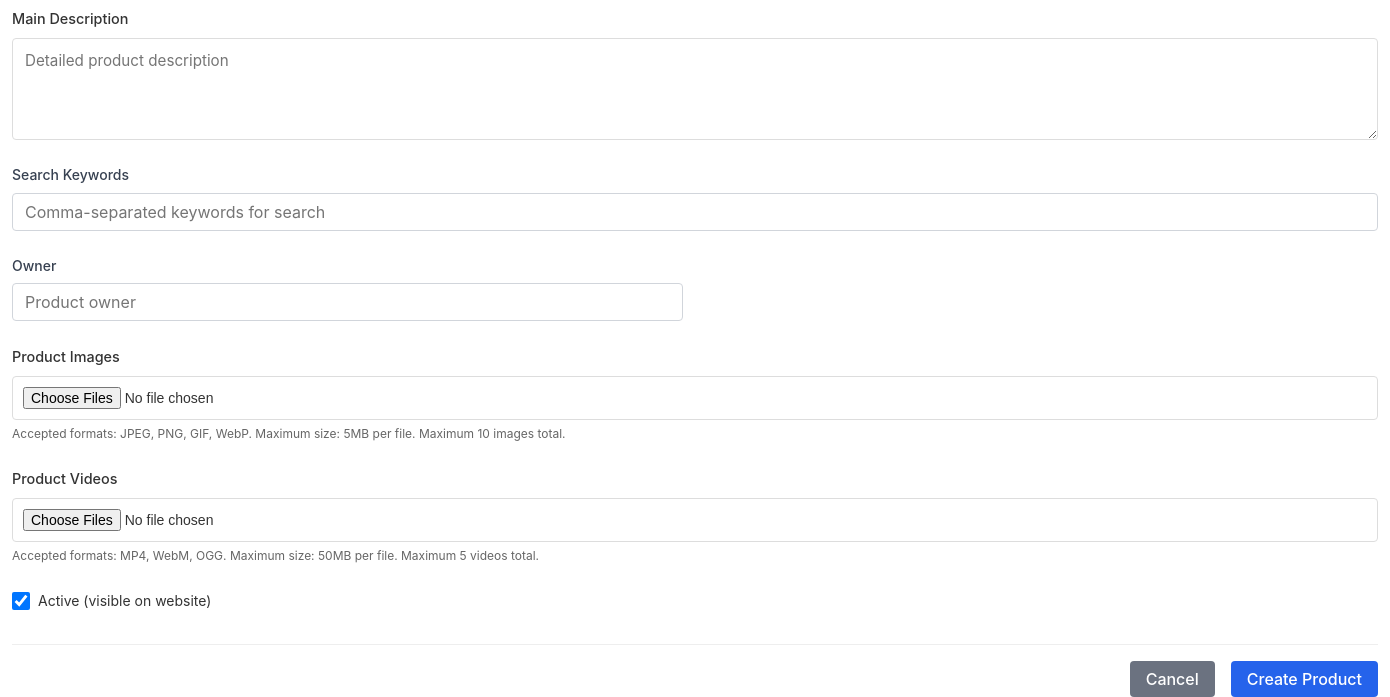
ProductForm - Real-time Validation › should not submit form when validation errors exist
This screenshot has width=1390, height=697.
(page scrolled)
// Try to submit without filling required fields
What coordinates should you click on to do the following:
click the button "Create Product"
I would click on:
 (1304, 679)
Its box is [1231,661,1378,696].
(page scrolled)
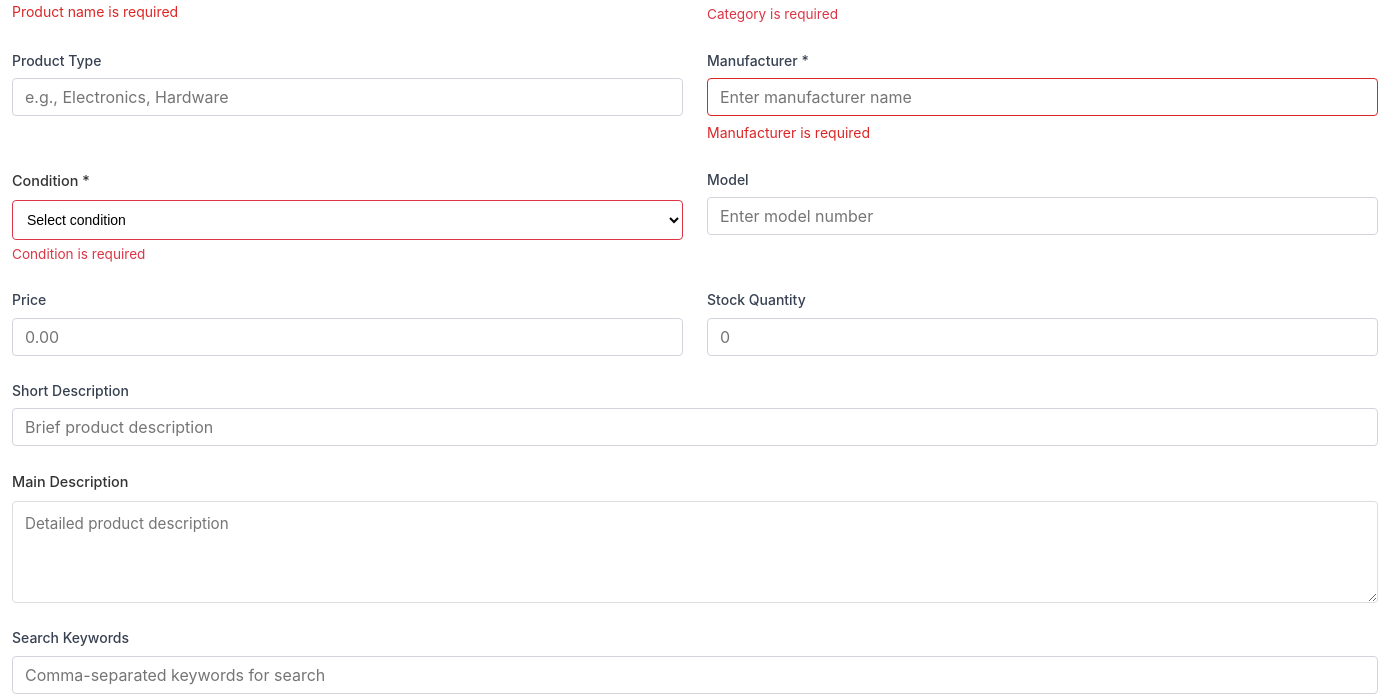
Check: the text "Product name is required" is shown, box [12,3,178,20]
Check: the text "Category is required" is shown, box [707,6,838,22]
Check: the text "Manufacturer is required" is shown, box [707,124,870,141]
